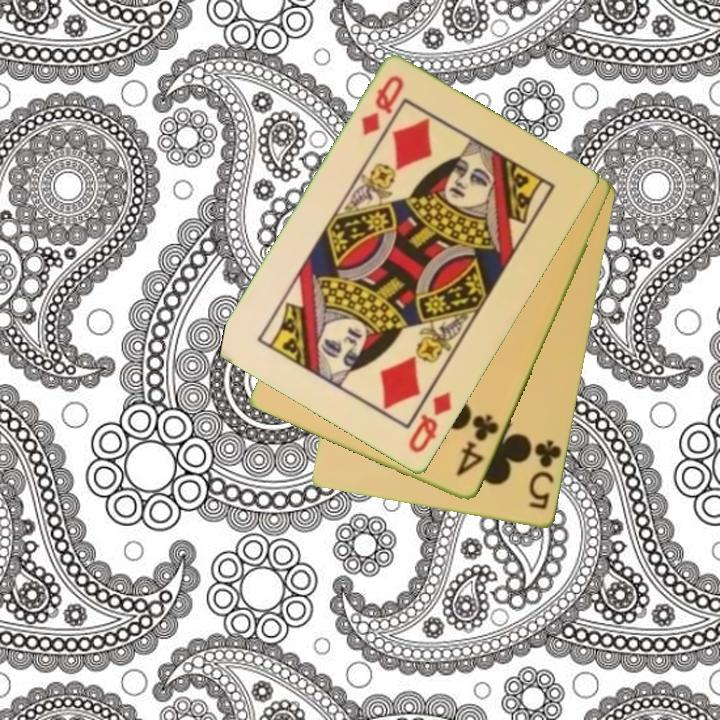4c: (453, 411, 502, 480)
5c: (525, 437, 565, 513)
Qd: (405, 388, 455, 457), (358, 72, 407, 139)
